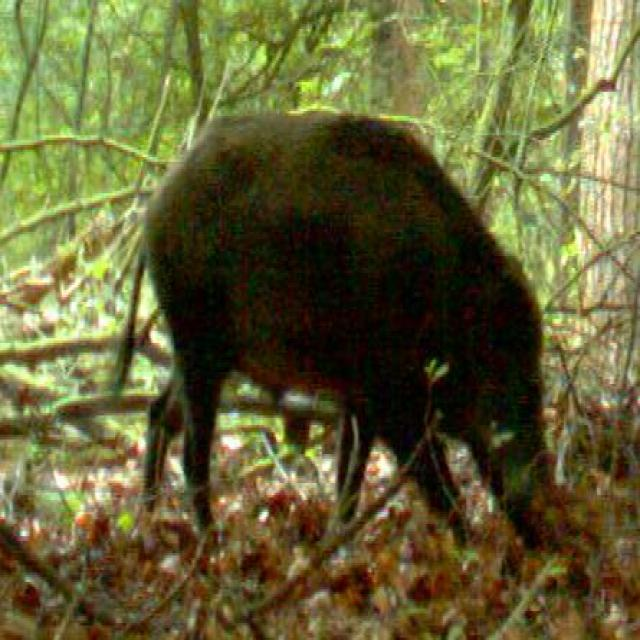pig: (102, 35, 601, 562)
